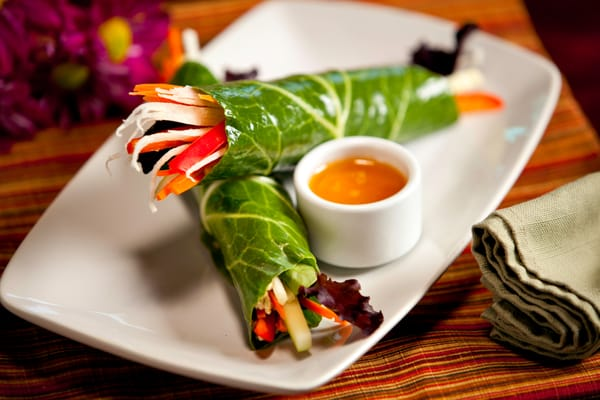pizza: (292, 135, 425, 269)
